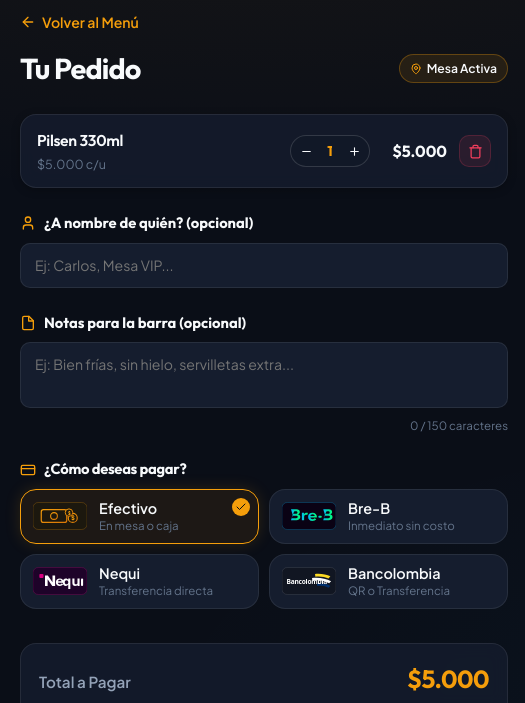
Test: CartView Component › renders items, calculates estimated total and allows editing quantities
Note: Incrementar cantidad
Click the button named "Aumentar cantidad".
click(354, 151)  # box [341, 138, 367, 164]
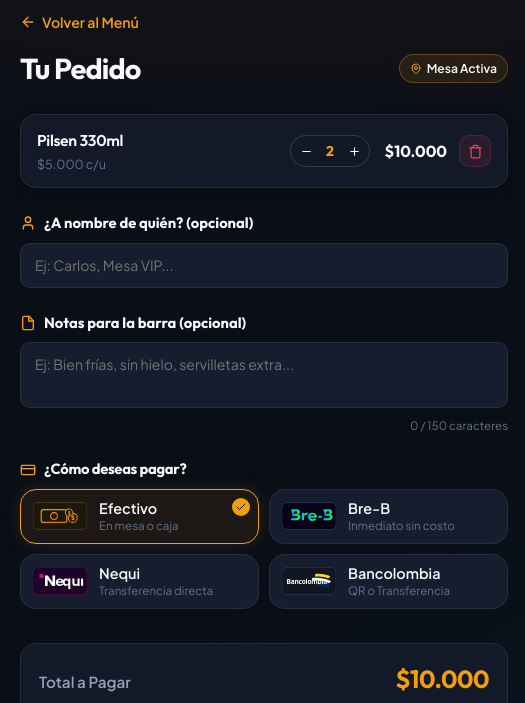
Now the text "$10.000" is shown, box [382, 139, 447, 163]
Note: Disminuir cantidad
Click the button named "Disminuir cantidad".
click(306, 151)  # box [293, 138, 319, 164]
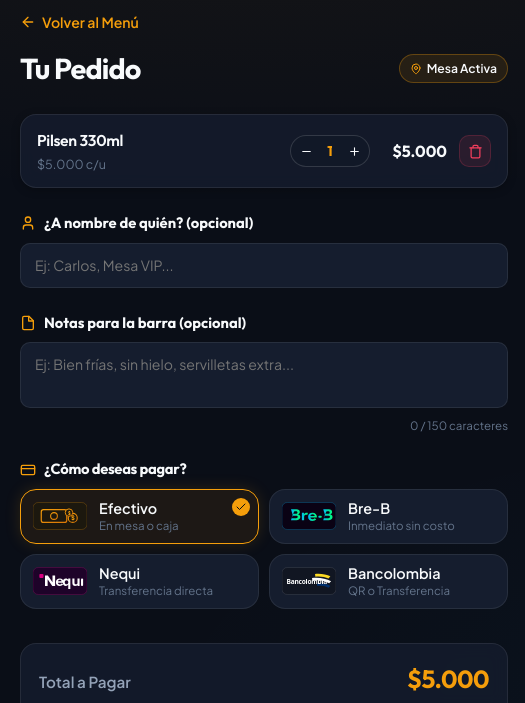
Note: Eliminar producto
Click the button with class "remove-btn".
click(475, 151)  # box [459, 135, 491, 167]
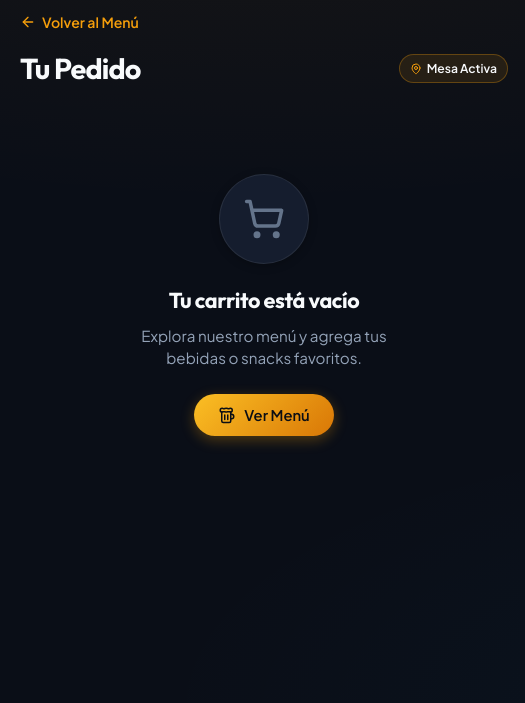
Now the text "Tu carrito está vacío" is shown, box [169, 284, 359, 317]
